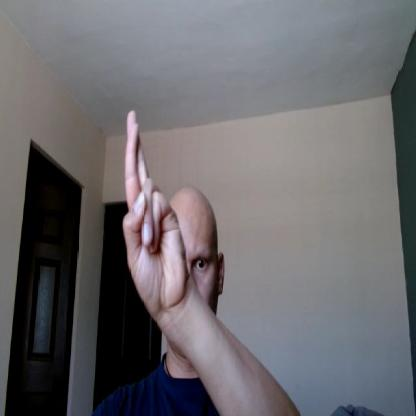R: (122, 108, 188, 308)
